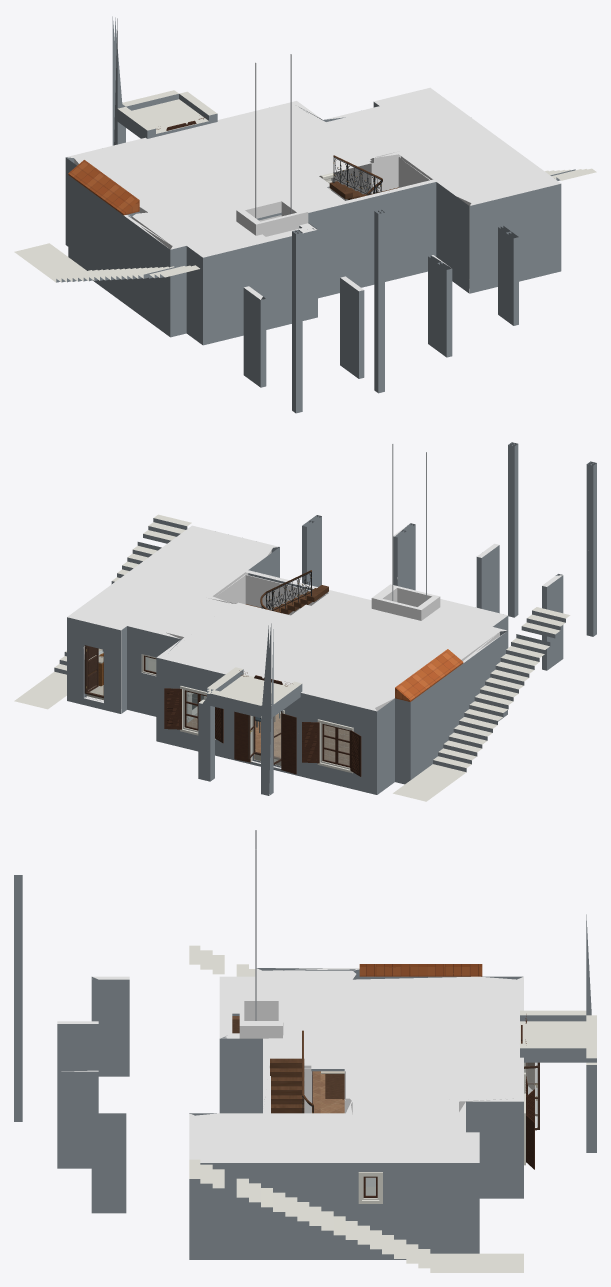
File: level-0.glb
The picture shows the model from 3 angles, top to bottom: view 1: azimuth 30°, elevation 25°; view 2: azimuth 150°, elevation 25°; view 3: azimuth 270°, elevation 25°; orthographic projection. The views are drawn at different scales.
Parts seen in each view (by area): view 1: F0 | KAT 0$DUVAR, F0 | KAT 0$TAVAN, F0 | ek dalgalar, F0 | KAT 0$DUVAR KAPLAMA, Lift shaft continuous walls | F0, F0 | ÇATII, B0 | Restored stair iron; view 2: F0 | KAT 0$DUVAR, F0 | KAT 0$TAVAN, F0 | ek dalgalar, F0 | PENCERE_KAPI$SHUTTER, F0 | KAT 0$DUVAR KAPLAMA, Lift shaft continuous walls | F0, F0 | ÇATII, F0 | KAT 0$ZEMİN KAPLAMA, F0 | PENCERE_KAPI$CAM, F0 | PENCERE_KAPI$ÇERÇEVE, F0 | PENCERE_KAPI$CEPHE FRAME, F0 | KAT 0$MERDİVEN (+3 smaller); view 3: F0 | KAT 0$DUVAR, F0 | KAT 0$TAVAN, F0 | ek dalgalar, Lift shaft continuous walls | F0, F0 | KAT 0$MERDİVEN, F0 | ÇATII, F0 | KAT 0$ZEMİN KAPLAMA, F0 | PENCERE_KAPI$SHUTTER, F0 | KAT 0$DUVAR KAPLAMA, F0 | PENCERE_KAPI$CEPHE FRAME.
Part boxes in pixels (left/top/right/bottom): F0 | KAT 0$DUVAR: left=65, top=87, right=561, bottom=413; F0 | KAT 0$TAVAN: left=74, top=91, right=552, bottom=253; F0 | ek dalgalar: left=14, top=16, right=596, bottom=282; F0 | KAT 0$DUVAR KAPLAMA: left=74, top=154, right=470, bottom=278; Lift shaft continuous walls | F0: left=236, top=197, right=308, bottom=236; F0 | ÇATII: left=68, top=160, right=139, bottom=215; B0 | Restored stair iron: left=333, top=157, right=382, bottom=195; F0 | KAT 0$DUVAR: left=67, top=442, right=596, bottom=794; F0 | KAT 0$TAVAN: left=75, top=529, right=499, bottom=708; F0 | ek dalgalar: left=14, top=514, right=570, bottom=801; F0 | PENCERE_KAPI$SHUTTER: left=164, top=675, right=361, bottom=776; F0 | KAT 0$DUVAR KAPLAMA: left=84, top=550, right=499, bottom=711; Lift shaft continuous walls | F0: left=371, top=584, right=440, bottom=620; F0 | ÇATII: left=395, top=649, right=463, bottom=701; F0 | KAT 0$ZEMİN KAPLAMA: left=88, top=658, right=349, bottom=765; F0 | PENCERE_KAPI$CAM: left=145, top=656, right=349, bottom=765; F0 | PENCERE_KAPI$ÇERÇEVE: left=143, top=655, right=350, bottom=767; F0 | PENCERE_KAPI$CEPHE FRAME: left=180, top=677, right=353, bottom=773; F0 | KAT 0$MERDİVEN: left=245, top=585, right=328, bottom=614; F0 | KAT 0$DUVAR: left=14, top=875, right=523, bottom=1259; F0 | KAT 0$TAVAN: left=196, top=970, right=516, bottom=1159; F0 | ek dalgalar: left=189, top=914, right=596, bottom=1272; Lift shaft continuous walls | F0: left=239, top=997, right=283, bottom=1099; F0 | KAT 0$MERDİVEN: left=270, top=1058, right=304, bottom=1113; F0 | ÇATII: left=359, top=964, right=482, bottom=976; F0 | KAT 0$ZEMİN KAPLAMA: left=313, top=1071, right=375, bottom=1195; F0 | PENCERE_KAPI$SHUTTER: left=525, top=1020, right=534, bottom=1169; F0 | KAT 0$DUVAR KAPLAMA: left=269, top=1068, right=472, bottom=1186; F0 | PENCERE_KAPI$CEPHE FRAME: left=358, top=1025, right=525, bottom=1203.
Size of the model in its own units: 15.98 by 9.07 by 16.87.
66 materials, 11 textured.
